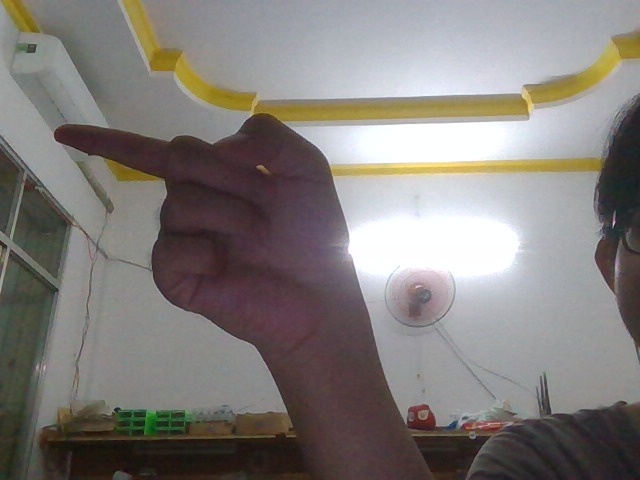turn_right: (42, 102, 379, 346)
